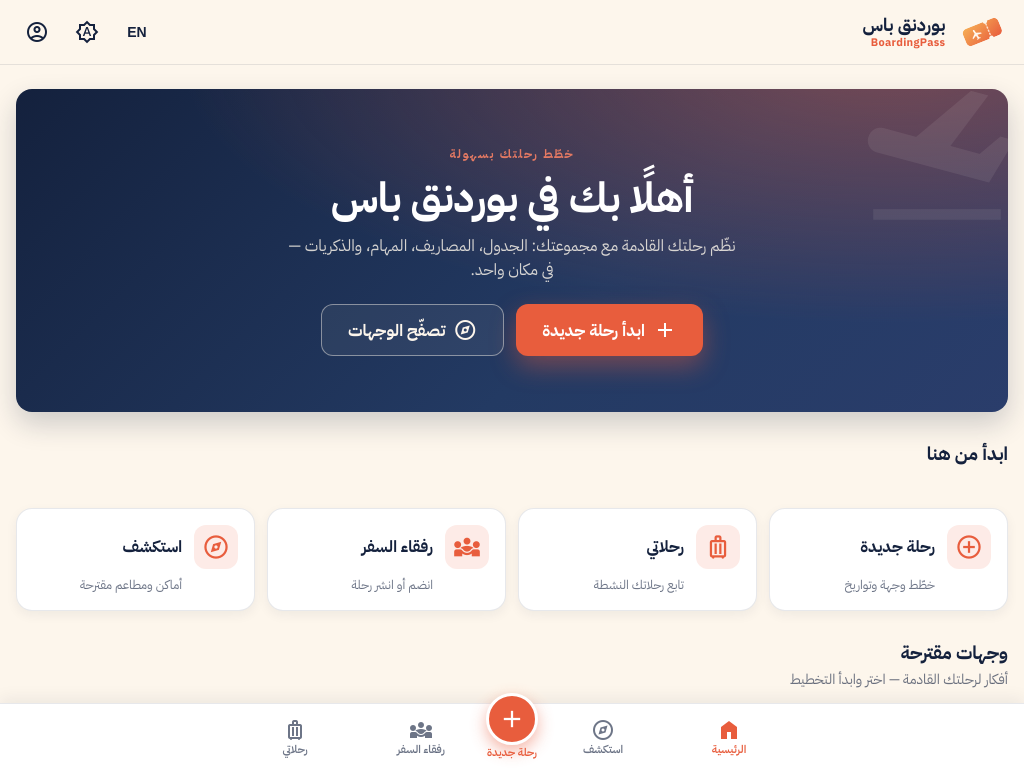
Test: US-014 App Shell › defaults to Arabic RTL and switches to English LTR
What coordinates should you click on to do the following:
click the button with aria-label "تغيير اللغة"
I would click on:
 (137, 32)
Its box is [116, 11, 158, 53].
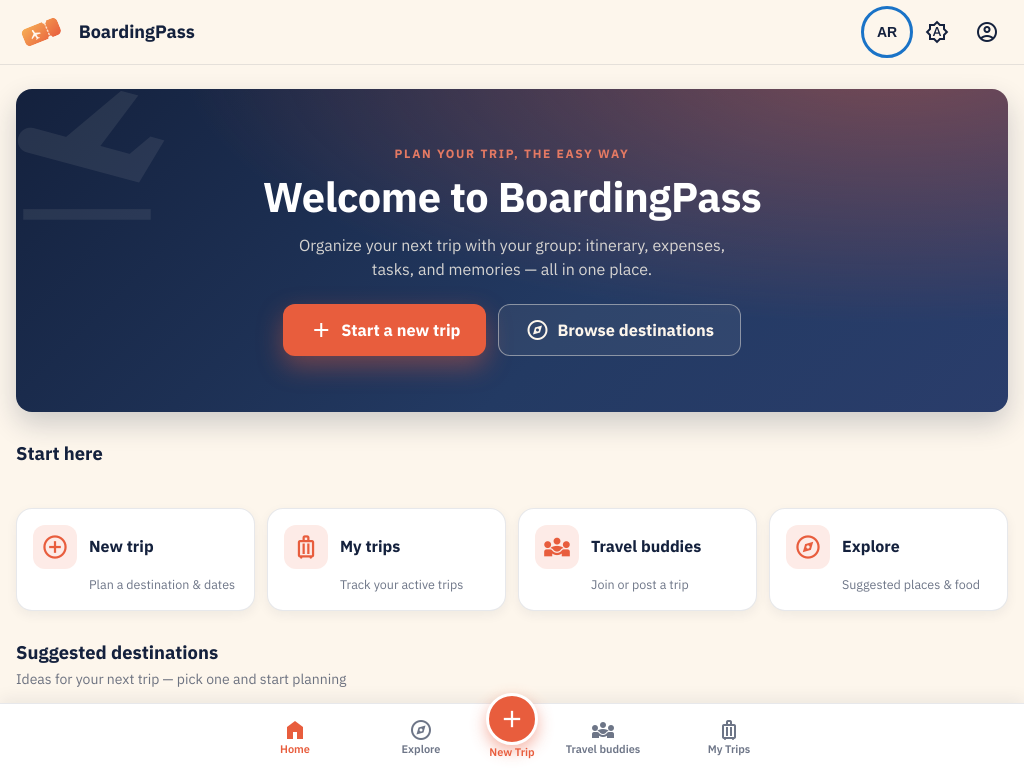
Result: the text "My Trips" is shown at [708, 744, 750, 756]
